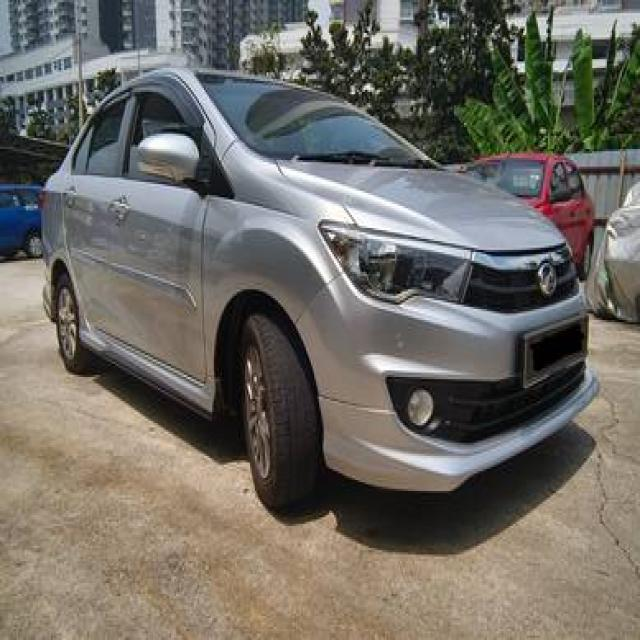PeroduaBezza: (38, 65, 599, 513)
